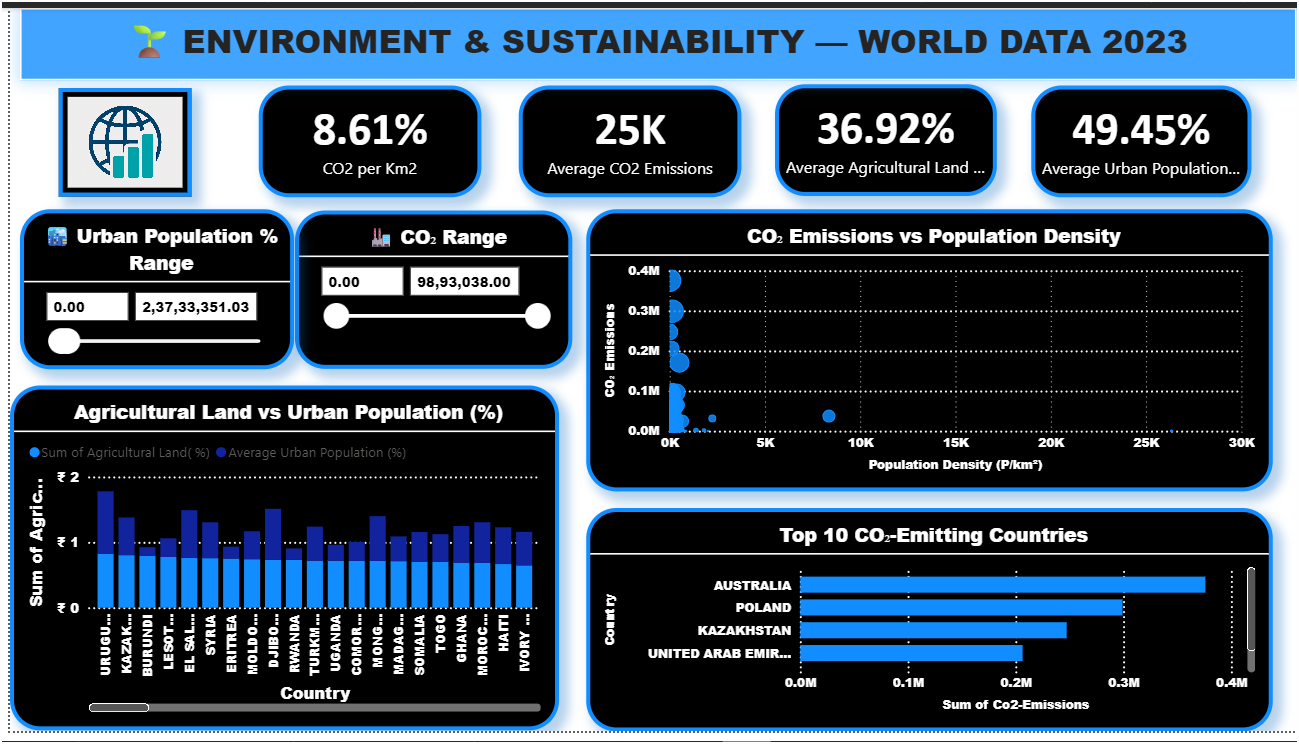

What the dashboard file says about the page in this screenshot:
{"tool":"powerbi","page":{"name":"Environment & Sustainability","canvas":[1280,720],"ordinal":3},"visuals":[{"type":"card","fields":{"Values":["Measure.Average Agricultural Land (%)"]},"box":[646.3,79.1,219.4,111.9],"z":0},{"type":"card","fields":{"Values":["Measure.Average Urban Population (%)"]},"box":[880.6,79.1,219.4,111.9],"z":1000},{"type":"card","fields":{"Values":["Measure.CO2 per Km2"]},"box":[162.7,80.6,220.9,111.9],"z":2000},{"type":"card","fields":{"Values":["Measure.Average CO2 Emissions"]},"box":[401.5,80.6,220.9,111.9],"z":3000},{"type":"scatterChart","title":"CO₂ Emissions vs Population Density","fields":{"Category":["Dim_Country.Country"],"Size":["Sum(Fact_Table.Urban_population)"],"X":["Sum(Fact_Table.Density(P/Km2))"],"Y":["Sum(Fact_Table.Co2-Emissions)"]},"box":[573.1,200,683.6,280.6],"z":4000},{"type":"barChart","title":"Top 10 CO₂-Emitting Countries","fields":{"Category":["Dim_Country.Country"],"Y":["Sum(Fact_Table.Co2-Emissions)"]},"box":[573.1,497,683.6,222.4],"z":5000},{"type":"columnChart","title":"Agricultural Land vs Urban Population (%)","fields":{"Category":["Dim_Country.Country"],"Y":["Sum(Fact_Table.Agricultural Land( %))","Measure.Average Urban Population (%)"]},"box":[0,376.1,546.3,343.3],"z":6000},{"type":"slicer","title":"🏭 CO₂ Range","fields":{"Values":["Fact_Table.Co2-Emissions"]},"box":[276.1,201.5,276.1,158.2],"z":7000},{"type":"slicer","title":"🏙️ Urban Population % Range","fields":{"Values":["Fact_Table.Urban_population"]},"box":[0,200,276.1,159.7],"z":8000},{"type":"textbox","box":[10.4,0,1270.1,71.6],"z":9000},{"type":"image","box":[0,77,132,108],"z":9001},{"type":"image","box":[1135.8,77.6,131.3,109],"z":9002}]}

Visuals, with their boxes in screenshot pixels (x1, y1, x2, y2), scaled from the page's 1280x720 canvas onto the 1299x744 screenshot:
card - Measure.Average Agricultural Land (%): bbox=[656, 82, 879, 197]
card - Measure.Average Urban Population (%): bbox=[894, 82, 1116, 197]
card - Measure.CO2 per Km2: bbox=[165, 83, 389, 199]
card - Measure.Average CO2 Emissions: bbox=[407, 83, 632, 199]
"CO₂ Emissions vs Population Density" scatterChart: bbox=[582, 207, 1275, 497]
"Top 10 CO₂-Emitting Countries" barChart: bbox=[582, 514, 1275, 743]
"Agricultural Land vs Urban Population (%)" columnChart: bbox=[0, 389, 554, 743]
"🏭 CO₂ Range" slicer: bbox=[280, 208, 560, 372]
"🏙️ Urban Population % Range" slicer: bbox=[0, 207, 280, 372]
textbox: bbox=[11, 0, 1298, 74]
image: bbox=[0, 80, 134, 191]
image: bbox=[1153, 80, 1286, 193]
